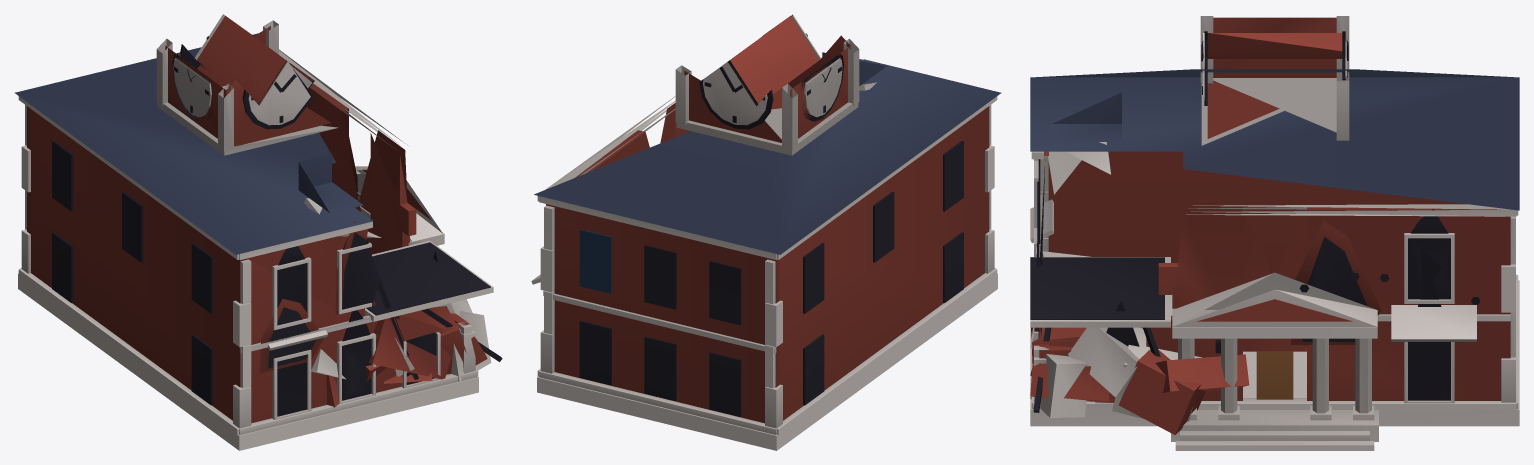
The picture shows the model from 3 angles, left to right: view 1: azimuth 30°, elevation 25°; view 2: azimuth 150°, elevation 25°; view 3: azimuth 270°, elevation 25°; orthographic projection. The views are drawn at different scales.
Parts seen in each view (by area): view 1: body_pal_brick, body_pal_picketWhite, roof_pal_denim, body_pal_uiDark; view 2: body_pal_brick, roof_pal_denim, body_pal_picketWhite, body_pal_uiDark, body_pal_blueTrim; view 3: body_pal_brick, body_pal_picketWhite, roof_pal_denim, body_pal_uiDark, door_front_pal_woodWarm.
Boxes of the visible parts, box(x1,y1,x2,y2) form: body_pal_brick: box(27, 16, 487, 423); body_pal_picketWhite: box(18, 14, 493, 450); roof_pal_denim: box(14, 33, 372, 254); body_pal_uiDark: box(52, 15, 502, 416); body_pal_brick: box(546, 16, 989, 423); roof_pal_denim: box(534, 52, 1001, 254); body_pal_picketWhite: box(531, 14, 997, 450); body_pal_uiDark: box(579, 15, 963, 416); body_pal_blueTrim: box(579, 229, 611, 293); body_pal_brick: box(1030, 17, 1510, 434); body_pal_picketWhite: box(1030, 16, 1519, 450); roof_pal_denim: box(1030, 69, 1519, 210); body_pal_uiDark: box(1030, 31, 1480, 412); door_front_pal_woodWarm: box(1256, 351, 1293, 399).
Size of the model in its own units: 12.05 by 12 by 16.
